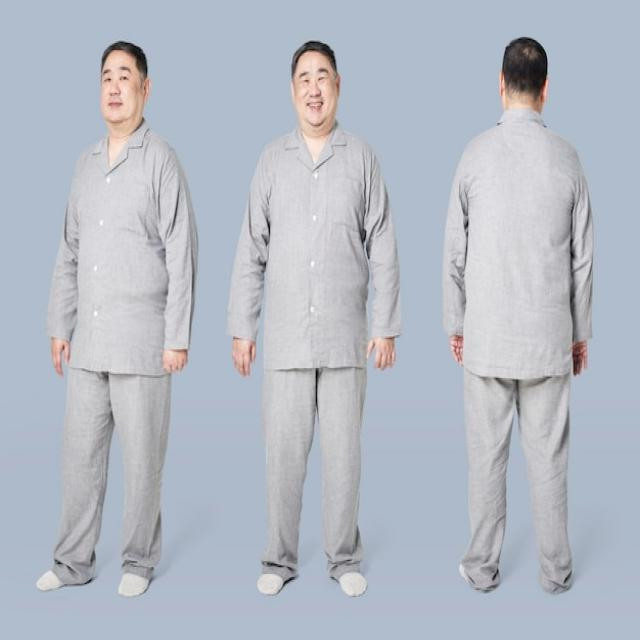Person: (225, 41, 399, 596), (38, 42, 198, 598), (441, 36, 592, 593)
